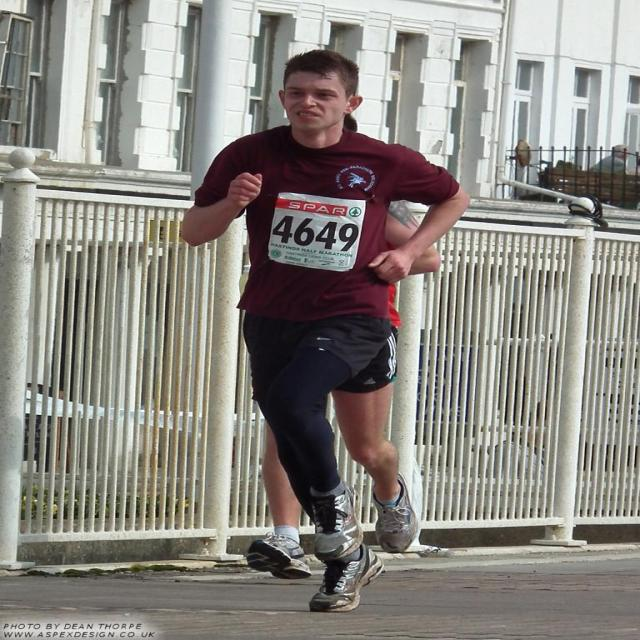Bib: (273, 216, 356, 256)
